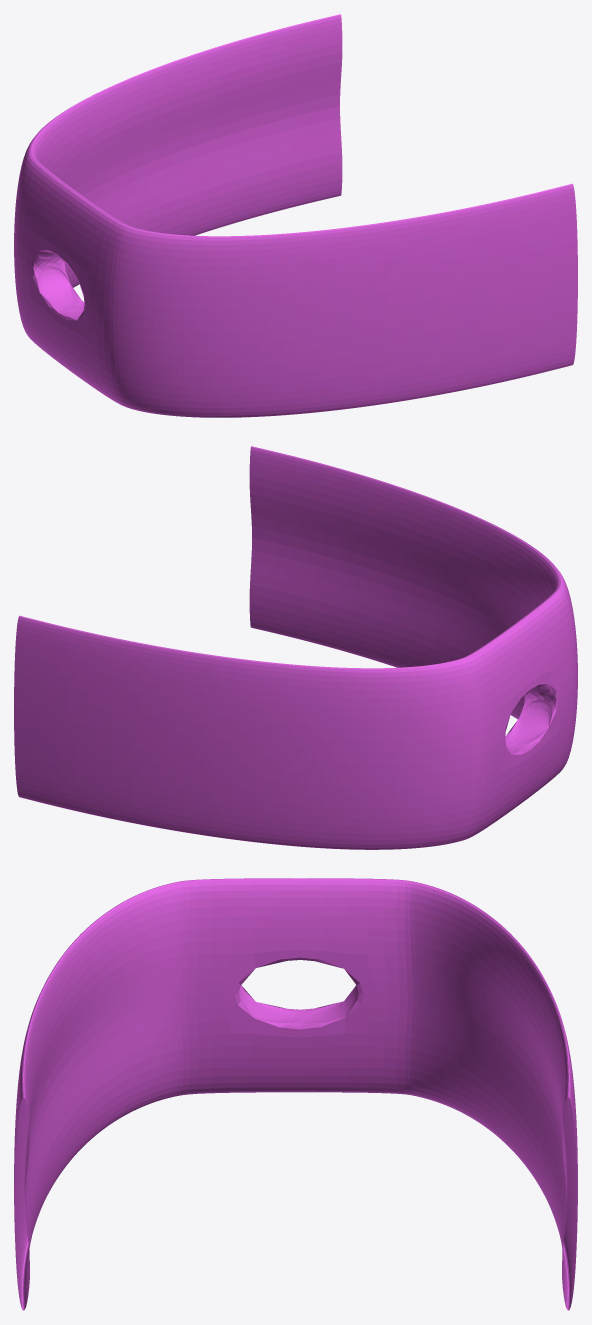
Rendered from MoonbaseWall3.fbx.
3 renders of one model, top to bottom at view 1: azimuth 30°, elevation 25°; view 2: azimuth 150°, elevation 25°; view 3: azimuth 270°, elevation 25°, orthographic. The views are drawn at different scales.
Parts seen in each view (by area): view 1: Torus.001; view 2: Torus.001; view 3: Torus.001.
Boxes of the visible parts, box(x1,y1,x2,y2) form: Torus.001: box(14, 14, 577, 417); Torus.001: box(14, 446, 577, 849); Torus.001: box(14, 878, 577, 1310).
Bounding box in the file's own units: 1476 × 617 × 1417.
